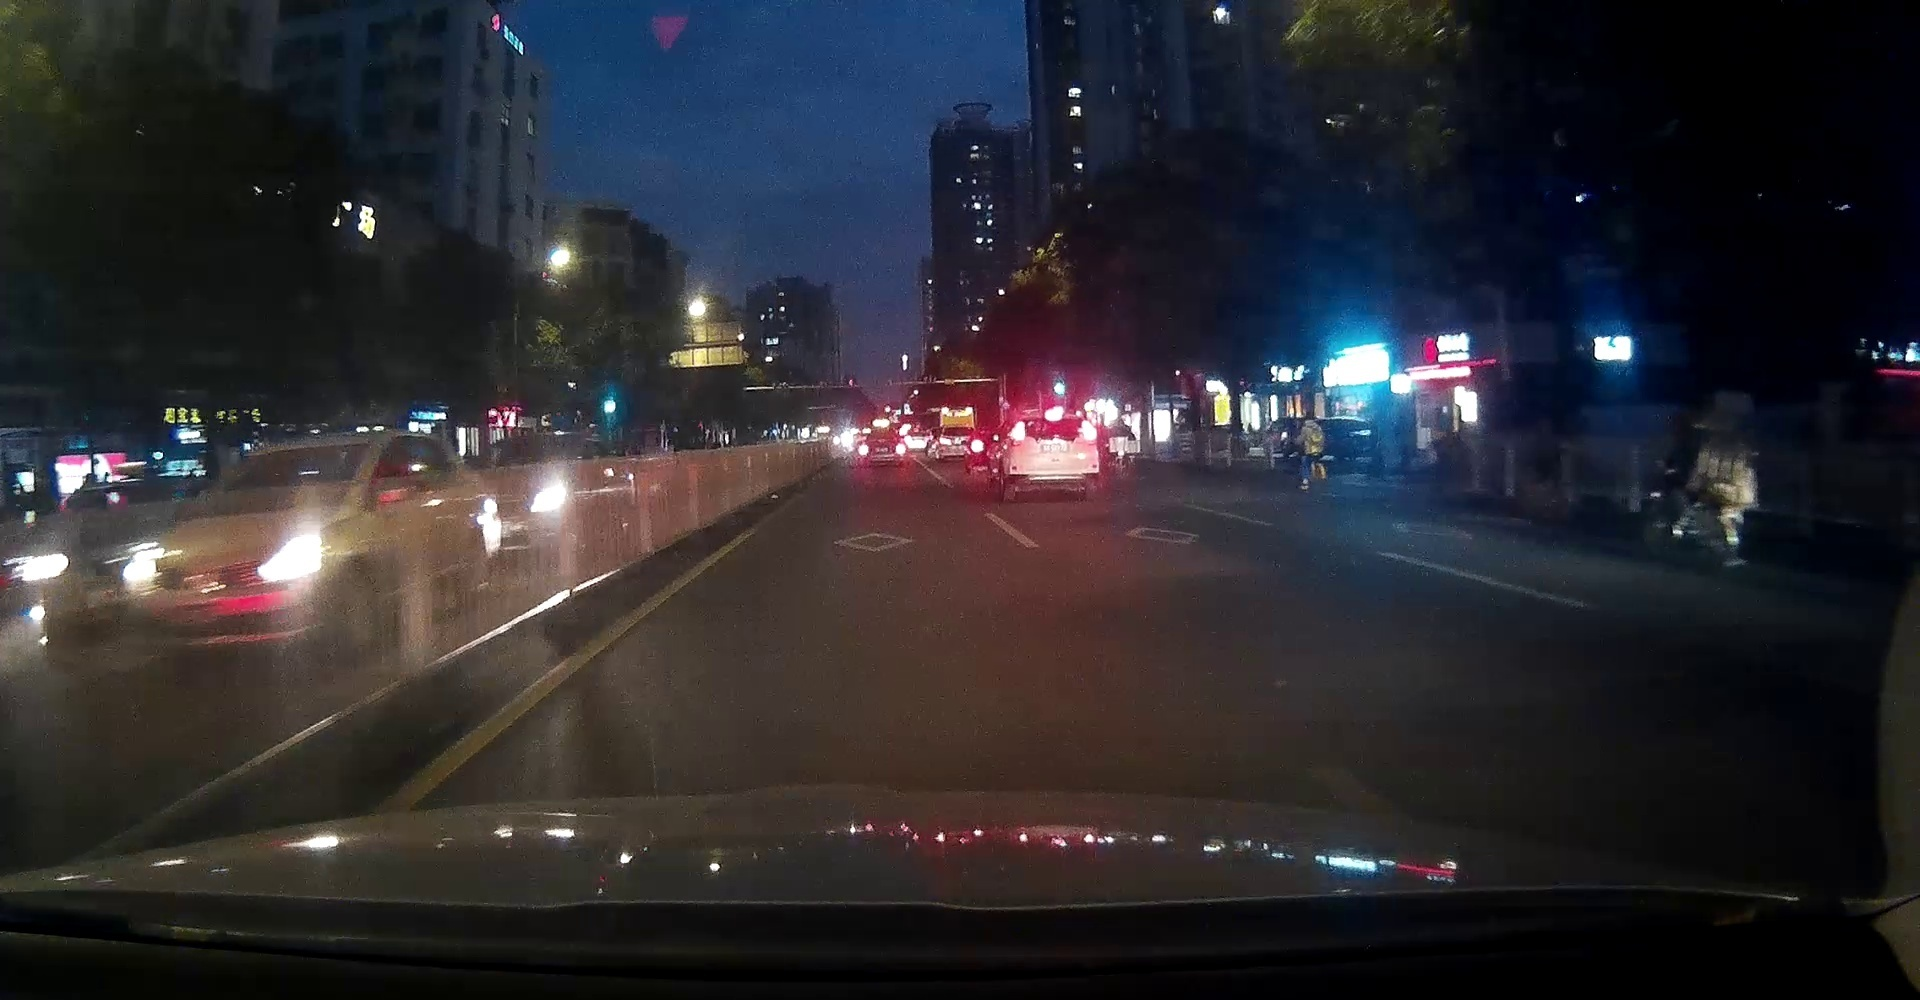L_light: (1008, 421, 1025, 445)
R_light: (1081, 420, 1097, 445)
T_light: (1045, 418, 1062, 423)
night-no: (1004, 411, 1100, 503)
